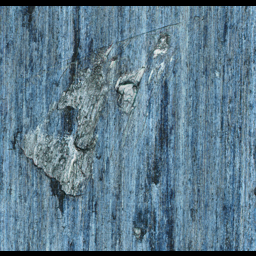d: (9, 31, 176, 213), (131, 214, 149, 242)
